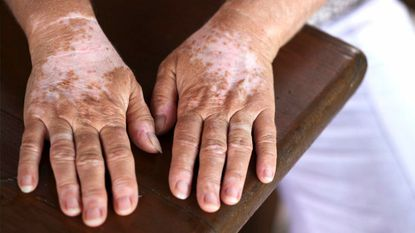vitiligo: (26, 23, 124, 145), (187, 31, 269, 156)
